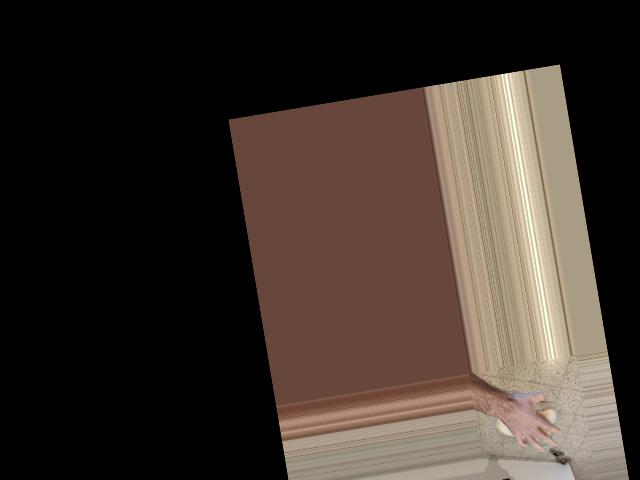cheese: (489, 383, 564, 457)
